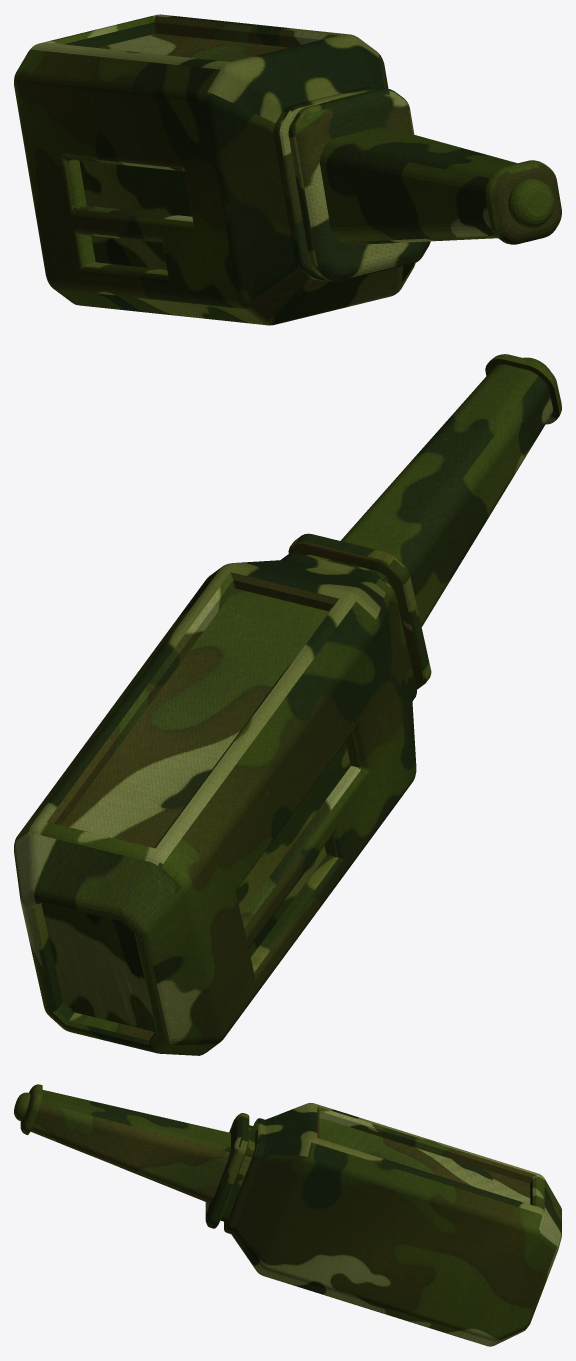
Rendered from gun.glb.
3 renders of one model, top to bottom at view 1: azimuth 30°, elevation 25°; view 2: azimuth 150°, elevation 25°; view 3: azimuth 270°, elevation 25°, orthographic. The views are drawn at different scales.
Parts seen in each view (by area): view 1: Guns; view 2: Guns; view 3: Guns.
Boxes of the visible parts, x1,y1,x2,y2 form: Guns: (14,14,561,325); Guns: (14,354,561,1055); Guns: (14,1084,561,1346).
Size of the model in its own units: 1.23 by 2.69 by 5.58.
Materials: 1 (1 with a texture image).
